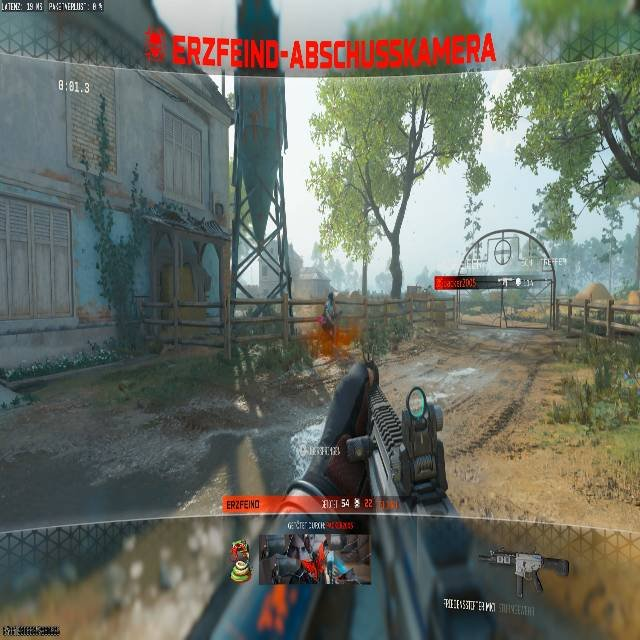player: (325, 288, 336, 319)
